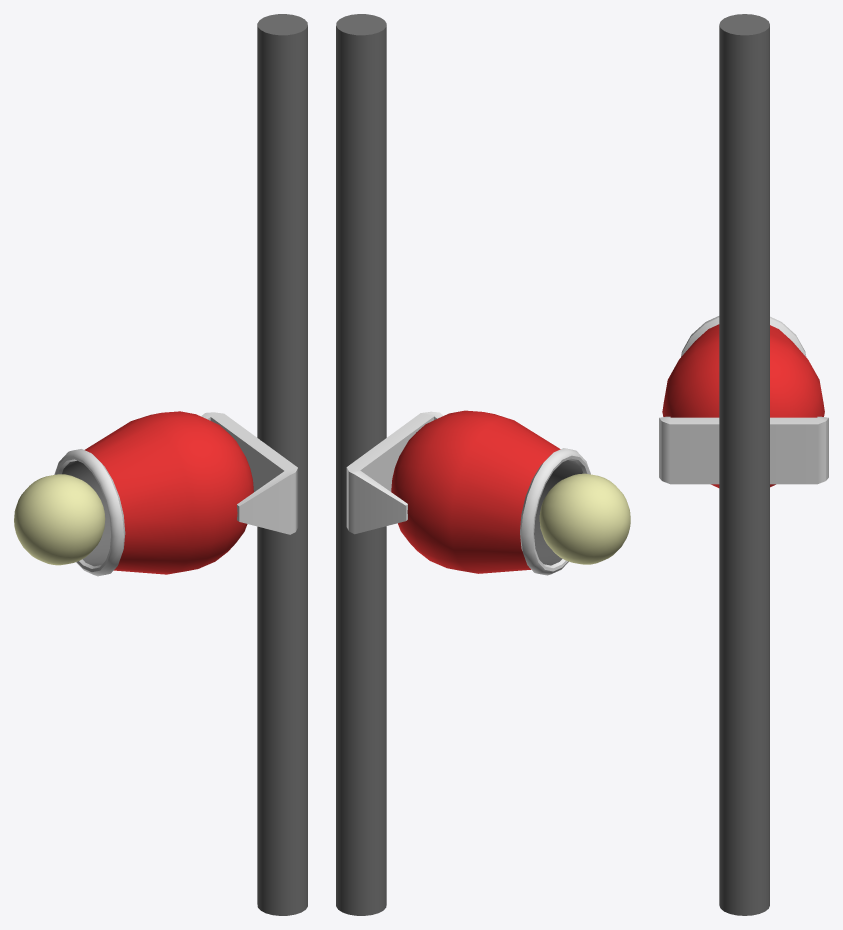
3 views of the same model, side by side, from view 1: azimuth 30°, elevation 25°; view 2: azimuth 150°, elevation 25°; view 3: azimuth 270°, elevation 25° (orthographic).
Parts seen in each view (by area): view 1: pCylinder6, pCylinder5, pSphere1, pCube34; view 2: pCylinder6, pCylinder5, pSphere1, pCube34; view 3: pCylinder6, pCylinder5, pCube34.
Boxes of the visible parts, x1,y1,x2,y2 form: pCylinder6: (257, 14, 307, 915); pCylinder5: (54, 411, 253, 576); pSphere1: (14, 474, 105, 565); pCube34: (201, 412, 298, 534); pCylinder6: (336, 14, 386, 915); pCylinder5: (391, 410, 590, 575); pSphere1: (539, 473, 630, 564); pCube34: (346, 411, 443, 534); pCylinder6: (719, 14, 769, 915); pCylinder5: (662, 316, 824, 487); pCube34: (659, 416, 828, 484).
Size of the model in its own units: 7.2 by 21.26 by 3.72.
